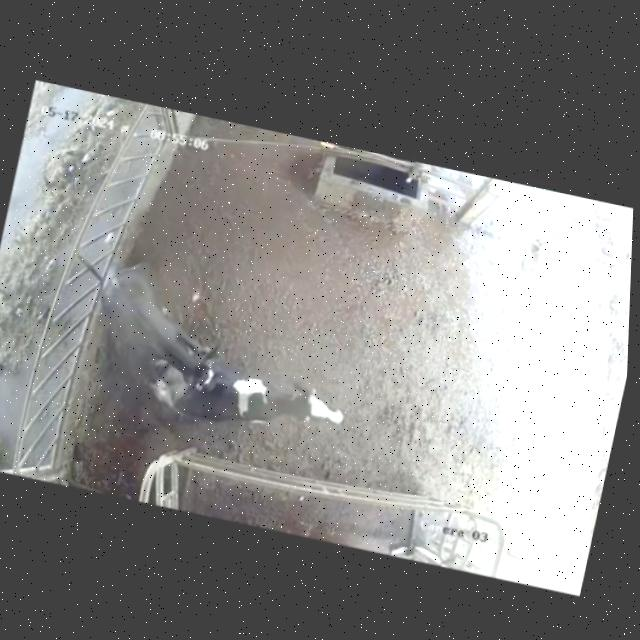ride: (58, 254, 247, 449)
stand: (163, 330, 369, 467)
